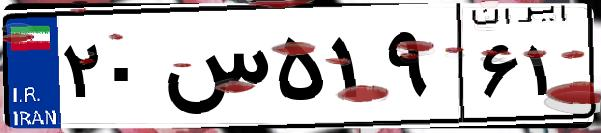0: (110, 28, 158, 98)
1: (330, 28, 385, 110), (525, 38, 570, 115)
2: (57, 26, 110, 100)
5: (270, 28, 330, 110)
6: (475, 38, 525, 113)
9: (385, 28, 445, 110)
س: (158, 20, 270, 120)
